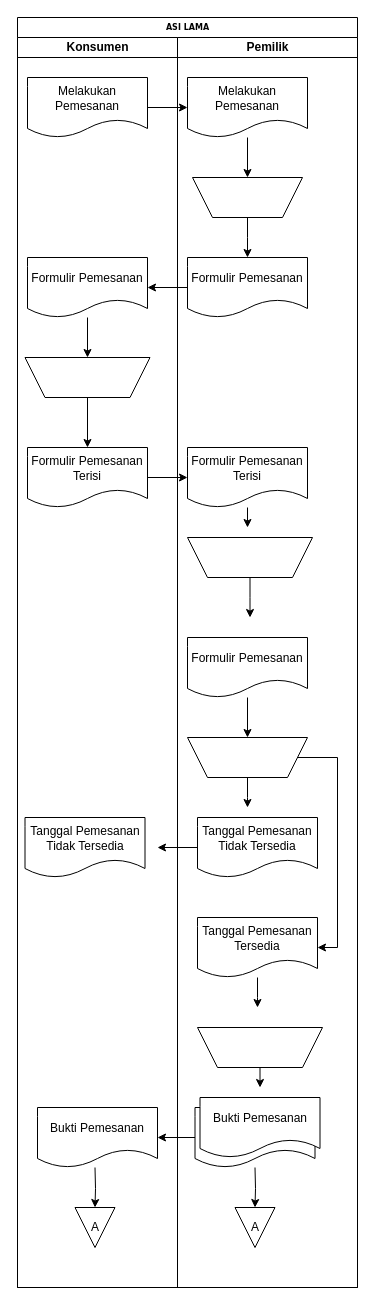
The diagram is 377 pixels wide and 1305 high, and some of its shapes have lost their labels. Each missing label, with the centre of its shape:
Buat Formulir: the point at 247,197
Cek Formulir: the point at 249,557
Cek Tanggal Pemesanan: the point at 247,757
Cetak Bukti Pemsanan: the point at 259,1047
Mengisi Formulir: the point at 87,377
